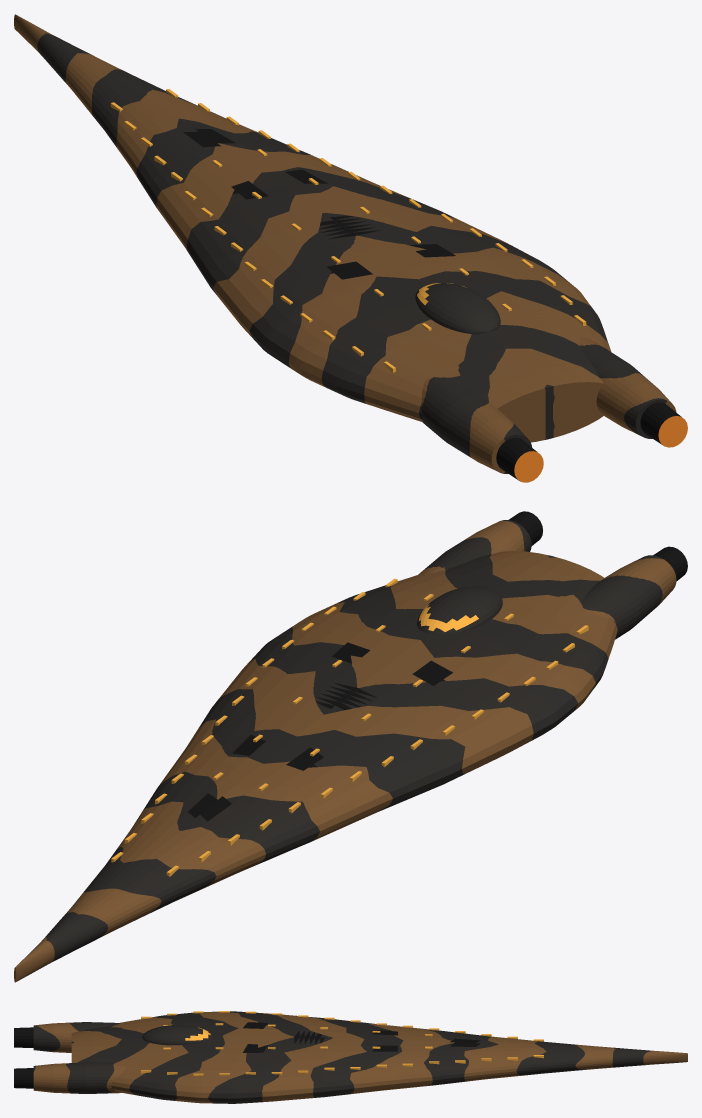
Rendered from battleship.obj.
The picture shows the model from 3 angles, top to bottom: view 1: azimuth 30°, elevation 25°; view 2: azimuth 150°, elevation 25°; view 3: azimuth 270°, elevation 25°; orthographic projection. The views are drawn at different scales.
Visible parts, largest first — view 1: hull, housing.port, housing.starboard, bridge, nozzle.starboard, nozzle.port; view 2: hull, housing.port, bridge, housing.starboard; view 3: hull, housing.starboard, housing.port, bridge, nozzle.starboard, nozzle.port.
Boxes of the visible parts, left/top/right/bottom form: hull: left=14, top=14, right=611, bottom=442; housing.port: left=421, top=377, right=531, bottom=473; housing.starboard: left=579, top=337, right=676, bottom=438; bridge: left=415, top=283, right=500, bottom=334; nozzle.starboard: left=640, top=402, right=687, bottom=447; nozzle.port: left=496, top=437, right=543, bottom=482; hull: left=14, top=551, right=618, bottom=982; housing.port: left=581, top=555, right=676, bottom=639; bridge: left=417, top=586, right=502, bottom=635; housing.starboard: left=418, top=520, right=531, bottom=574; hull: left=71, top=1011, right=687, bottom=1103; housing.starboard: left=33, top=1062, right=125, bottom=1093; housing.port: left=33, top=1022, right=121, bottom=1052; bridge: left=142, top=1025, right=212, bottom=1045; nozzle.starboard: left=14, top=1068, right=33, bottom=1088; nozzle.port: left=14, top=1027, right=33, bottom=1047.
Size of the model in its own units: 0.296 by 0.0868 by 1.03.
